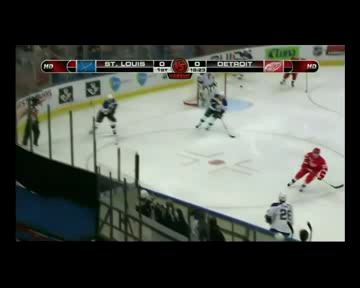normal: (191, 89, 241, 140), (89, 93, 126, 143)
